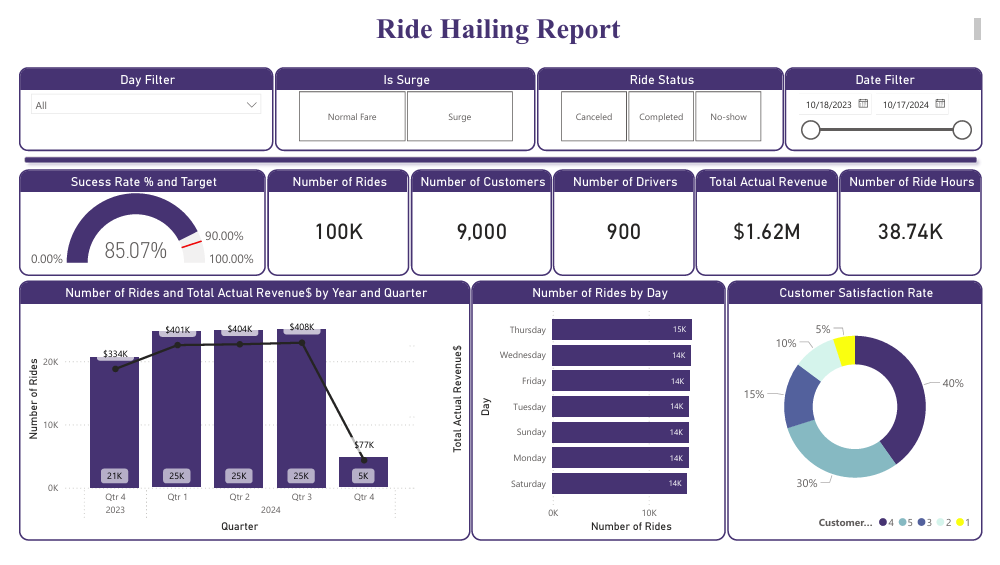

The dashboard page shown, as its layout file describes it:
{"tool":"powerbi","page":{"name":"Page 1","canvas":[1280,720],"ordinal":0},"visuals":[{"type":"textbox","box":[10.1,0,1268.6,61.9],"z":0},{"type":"slicer","title":"Date Filter","fields":{"Values":["Dim_Date.Date"]},"box":[1015.2,77.8,262.1,110.9],"z":1000},{"type":"slicer","title":"Ride Status","fields":{"Values":["ride_hailing_dataset - Session 26.Ride_Status"]},"box":[686.9,77.8,326.9,110.9],"z":2000},{"type":"slicer","title":"Day Filter","fields":{"Values":["ride_hailing_dataset - Session 26.Day"]},"box":[1.4,77.8,337,110.9],"z":3000},{"type":"slicer","title":"Is Surge","fields":{"Values":["ride_hailing_dataset - Session 26.Is_Surge"]},"box":[339.8,77.8,345.6,110.9],"z":4000},{"type":"shape","box":[0,188.1,1278.3,25.2],"z":5000},{"type":"card","title":"Number of Rides","fields":{"Values":["_Measures.Number of Rides"]},"box":[329.8,213.1,188.6,141.1],"z":6000},{"type":"card","title":"Number of Customers","fields":{"Values":["_Measures.Number of Customers"]},"box":[519.8,213.1,187.2,141.1],"z":7000},{"type":"card","title":"Number of Drivers","fields":{"Values":["_Measures.Number of Drivers"]},"box":[708.5,213.1,187.2,141.1],"z":8000},{"type":"card","title":"Total Actual Revenue","fields":{"Values":["_Measures.Total Actual Revenue$"]},"box":[897.1,213.1,188.6,141.1],"z":9000},{"type":"card","title":"Number of Ride Hours","fields":{"Values":["_Measures.Number of ride hours"]},"box":[1087.2,213.1,188.6,141.1],"z":10000},{"type":"gauge","fields":{"Y":["_Measures.Sucess Rate %"],"TargetValue":["_Measures.Target"]},"box":[1.4,213.1,326.9,141.1],"z":11000},{"type":"lineClusteredColumnComboChart","fields":{"Y":["_Measures.Number of Rides"],"Category":["Dim_Date.Date.Variation.Date Hierarchy.Year","Dim_Date.Date.Variation.Date Hierarchy.Quarter","Dim_Date.Date.Variation.Date Hierarchy.Month","Dim_Date.Date.Variation.Date Hierarchy.Day"],"Y2":["_Measures.Total Actual Revenue$"]},"box":[1.4,360,597.6,344.2],"z":12000},{"type":"clusteredBarChart","title":"Number of Rides by Day","fields":{"Category":["ride_hailing_dataset - Session 26.Day"],"Y":["_Measures.Number of Rides"]},"box":[600.5,360,337,344.2],"z":13000},{"type":"donutChart","title":"Customer Satisfaction Rate","fields":{"Category":["ride_hailing_dataset - Session 26.Customer_Rating"],"Y":["_Measures.Number of Rides"]},"box":[938.9,360,338.4,344.2],"z":14000}]}

Visuals, with their boxes in screenshot pixels (x1, y1, x2, y2), scaled from the page's 1280x720 canvas onto the 1000x565 screenshot:
textbox: crop(8, 0, 999, 49)
"Date Filter" slicer: crop(793, 61, 998, 148)
"Ride Status" slicer: crop(537, 61, 792, 148)
"Day Filter" slicer: crop(1, 61, 264, 148)
"Is Surge" slicer: crop(265, 61, 535, 148)
shape: crop(0, 148, 999, 167)
"Number of Rides" card: crop(258, 167, 405, 278)
"Number of Customers" card: crop(406, 167, 552, 278)
"Number of Drivers" card: crop(554, 167, 700, 278)
"Total Actual Revenue" card: crop(701, 167, 848, 278)
"Number of Ride Hours" card: crop(849, 167, 997, 278)
gauge - _Measures.Sucess Rate % x _Measures.Target: crop(1, 167, 256, 278)
lineClusteredColumnComboChart - _Measures.Number of Rides x Dim_Date.Date.Variation.Date Hierarchy.Year: crop(1, 282, 468, 553)
"Number of Rides by Day" clusteredBarChart: crop(469, 282, 732, 553)
"Customer Satisfaction Rate" donutChart: crop(734, 282, 998, 553)
